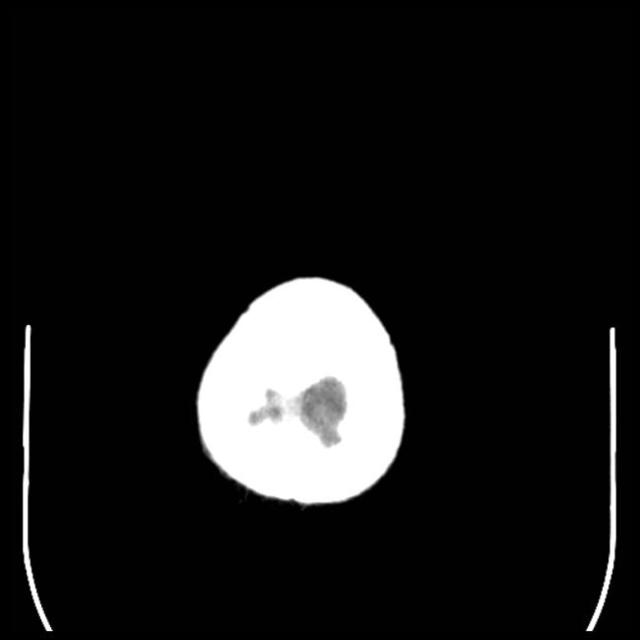lesion: (0, 286, 639, 639)
